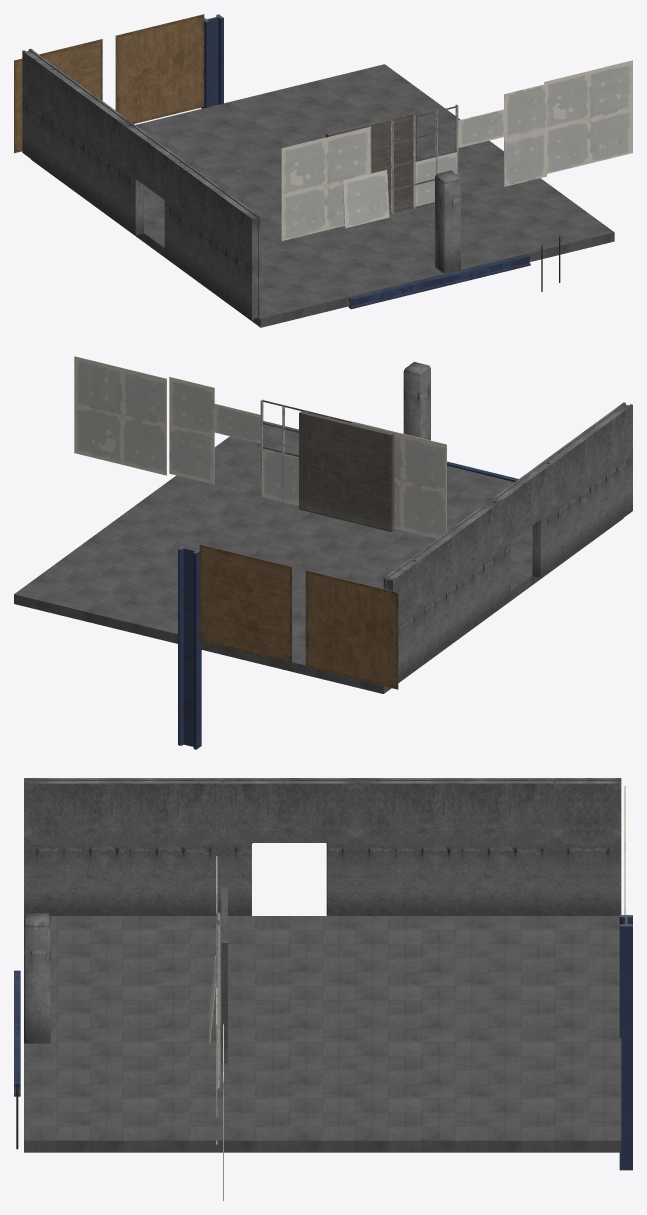
File: BuildingMap_1_0.gltf
3 renders of one model, top to bottom at view 1: azimuth 30°, elevation 25°; view 2: azimuth 150°, elevation 25°; view 3: azimuth 270°, elevation 25°, orthographic. The views are drawn at different scales.
Parts seen in each view (by area): view 1: SM_Floors_Thick_17, SM_Floors_Thick_16, SM_Building_Pieces_WallConcrete6m11, SM_Building_Pieces_WallConcrete6m10, SM_Floors_Thick_22, SM_Wall_Inside_35, SM_Wall_Inside_9, SM_Floors_Thick_23, SM_Wall_Inside_18, SM_Building_Pieces_Wall4m_Door3, SM_BW_BrickWall4m, SM_BP_WallCon_2x6 (+19 smaller); view 2: SM_Floors_Thick_17, SM_Floors_Thick_16, SM_BW_BrickWall4m, SM_Building_Pieces_WallConcrete6m10, SM_Building_Pieces_WallConcrete6m11, SM_Wall_Inside_36, SM_Wall_Inside_35, SM_Wall_Inside_9, SM_Floors_Thick_22, SM_Wall_Inside_18, SM_Building_Pieces_Wall4m_Door3, SM_Building_Pieces_2_SteelRudder186 (+11 smaller); view 3: SM_Floors_Thick_17, SM_Floors_Thick_16, SM_Floors_Thick_23, SM_Floors_Thick_22, SM_Building_Pieces_WallConcrete6m10, SM_Building_Pieces_WallConcrete6m11, SM_Building_Pieces_Wall4m_Door3, SM_BP_WallCon_2x6, SM_Building_Pieces_ConcretePillar1, SM_Building_Pieces_2_SteelRudder186, SM_Floors_Thick_18, SM_Floors_Thick_19 (+8 smaller).
Part boxes in pixels (left/top/right/bottom): SM_Floors_Thick_17: left=208, top=64, right=460, bottom=160; SM_Floors_Thick_16: left=366, top=140, right=588, bottom=256; SM_Building_Pieces_WallConcrete6m11: left=175, top=161, right=260, bottom=320; SM_Building_Pieces_WallConcrete6m10: left=47, top=67, right=132, bottom=226; SM_Floors_Thick_22: left=133, top=189, right=411, bottom=308; SM_Wall_Inside_35: left=115, top=14, right=204, bottom=123; SM_Wall_Inside_9: left=544, top=60, right=632, bottom=173; SM_Floors_Thick_23: left=31, top=108, right=281, bottom=233; SM_Wall_Inside_18: left=281, top=127, right=370, bottom=240; SM_Building_Pieces_Wall4m_Door3: left=124, top=123, right=183, bottom=264; SM_BW_BrickWall4m: left=326, top=112, right=416, bottom=212; SM_BP_WallCon_2x6: left=22, top=48, right=55, bottom=170; SM_Floors_Thick_17: left=14, top=516, right=304, bottom=643; SM_Floors_Thick_16: left=121, top=438, right=356, bottom=561; SM_BW_BrickWall4m: left=299, top=411, right=394, bottom=531; SM_Building_Pieces_WallConcrete6m10: left=410, top=500, right=499, bottom=666; SM_Building_Pieces_WallConcrete6m11: left=544, top=402, right=632, bottom=569; SM_Wall_Inside_36: left=305, top=570, right=398, bottom=689; SM_Wall_Inside_35: left=199, top=544, right=292, bottom=663; SM_Wall_Inside_9: left=74, top=356, right=166, bottom=475; SM_Floors_Thick_22: left=306, top=491, right=596, bottom=615; SM_Wall_Inside_18: left=354, top=422, right=446, bottom=538; SM_Building_Pieces_Wall4m_Door3: left=491, top=461, right=552, bottom=608; SM_Building_Pieces_2_SteelRudder186: left=178, top=545, right=201, bottom=749; SM_Floors_Thick_17: left=356, top=1028, right=621, bottom=1152; SM_Floors_Thick_16: left=90, top=1028, right=355, bottom=1152; SM_Floors_Thick_23: left=356, top=916, right=619, bottom=1028; SM_Floors_Thick_22: left=90, top=916, right=355, bottom=1028; SM_Building_Pieces_WallConcrete6m10: left=356, top=778, right=554, bottom=915; SM_Building_Pieces_WallConcrete6m11: left=24, top=778, right=222, bottom=915; SM_Building_Pieces_Wall4m_Door3: left=223, top=778, right=355, bottom=915; SM_BP_WallCon_2x6: left=555, top=778, right=621, bottom=915; SM_Building_Pieces_ConcretePillar1: left=24, top=913, right=50, bottom=1043; SM_Building_Pieces_2_SteelRudder186: left=619, top=915, right=632, bottom=1170; SM_Floors_Thick_18: left=24, top=1112, right=90, bottom=1152; SM_Floors_Thick_19: left=24, top=1084, right=90, bottom=1112.
Size of the model in its own units: 21 by 8.8 by 18.65.
Materials: 7 (7 with a texture image).
